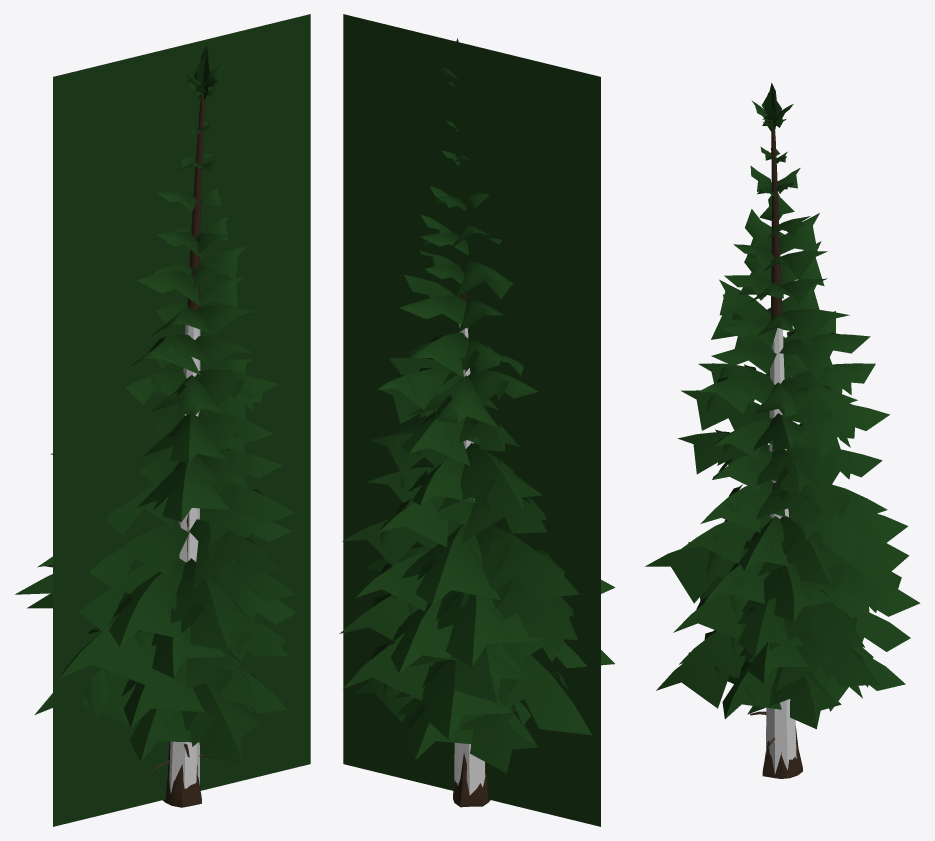
File: Spruce_A.fbx
3 renders of one model, left to right at view 1: azimuth 30°, elevation 25°; view 2: azimuth 150°, elevation 25°; view 3: azimuth 270°, elevation 25°, orthographic. The views are drawn at different scales.
Visible parts, largest first — view 1: Spruce_A_Billboard, Spruce_A_Foliage, Spruce_A_Trunk, COL_Spruce_A; view 2: Spruce_A_Billboard, Spruce_A_Foliage, COL_Spruce_A, Spruce_A_Trunk; view 3: Spruce_A_Foliage, COL_Spruce_A, Spruce_A_Trunk.
Boxes of the visible parts, x1=… form: Spruce_A_Billboard: x1=53, y1=14, x2=310, y2=826; Spruce_A_Foliage: x1=15, y1=46, x2=296, y2=765; Spruce_A_Trunk: x1=149, y1=88, x2=217, y2=807; COL_Spruce_A: x1=169, y1=324, x2=200, y2=793; Spruce_A_Billboard: x1=343, y1=14, x2=600, y2=826; Spruce_A_Foliage: x1=339, y1=38, x2=615, y2=773; COL_Spruce_A: x1=454, y1=324, x2=485, y2=795; Spruce_A_Trunk: x1=453, y1=265, x2=490, y2=807; Spruce_A_Foliage: x1=645, y1=83, x2=920, y2=729; COL_Spruce_A: x1=766, y1=328, x2=796, y2=774; Spruce_A_Trunk: x1=750, y1=120, x2=802, y2=778.
Size of what is drawn, in the model's own units: 5.19 by 14.06 by 5.04.
